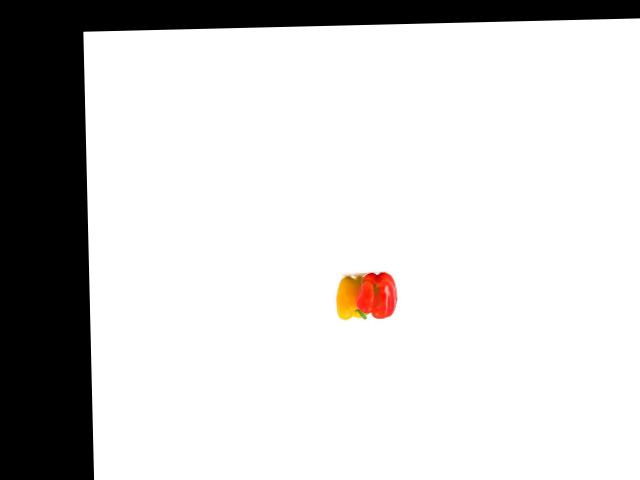bell_pepper: (334, 272, 372, 318)
